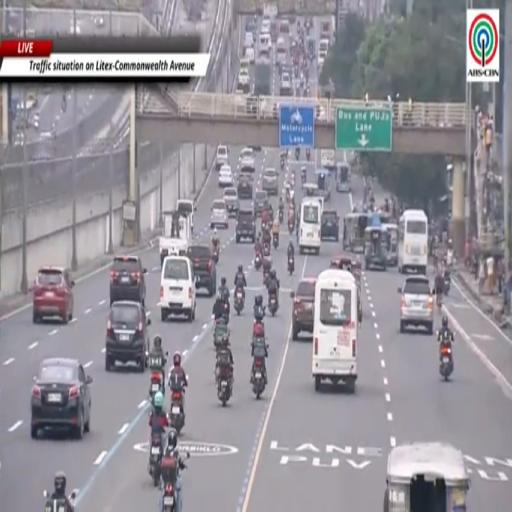bus: (312, 269, 362, 391), (398, 210, 428, 275), (299, 198, 321, 253)
car: (31, 358, 92, 439), (105, 300, 151, 372), (159, 256, 196, 322), (32, 266, 74, 324), (399, 276, 434, 333), (110, 255, 146, 307), (292, 279, 316, 341), (187, 245, 216, 296), (236, 210, 255, 243), (177, 200, 196, 233), (321, 211, 339, 242), (210, 200, 228, 229), (224, 187, 239, 217), (262, 168, 278, 196), (237, 173, 253, 199), (239, 148, 255, 172), (254, 190, 268, 217), (216, 146, 229, 170), (219, 166, 233, 187), (238, 69, 250, 90), (245, 19, 257, 34), (280, 71, 291, 87), (260, 18, 271, 34), (280, 82, 293, 95), (316, 105, 326, 121), (93, 14, 104, 28), (244, 32, 254, 47), (245, 47, 254, 63), (240, 58, 250, 72), (280, 20, 289, 34)
jeepney: (384, 442, 470, 511), (330, 255, 362, 317), (343, 213, 368, 252), (364, 227, 387, 269), (383, 223, 398, 266), (336, 163, 351, 193), (303, 183, 318, 197)
motorcycle: (162, 464, 186, 511), (149, 357, 165, 402), (149, 435, 163, 486), (170, 390, 184, 435), (252, 358, 265, 398), (43, 490, 66, 511), (440, 343, 453, 380), (149, 371, 164, 403), (218, 373, 232, 406), (214, 324, 229, 347), (234, 287, 244, 315), (253, 320, 264, 338), (269, 295, 278, 316), (254, 252, 262, 271), (444, 270, 450, 295), (212, 245, 219, 264), (288, 255, 294, 275), (262, 243, 270, 257), (436, 293, 442, 311), (263, 268, 269, 286), (288, 219, 294, 234), (285, 185, 290, 201), (273, 234, 278, 249), (280, 157, 285, 169), (279, 208, 283, 223), (301, 173, 306, 185), (295, 148, 300, 159), (306, 149, 310, 161)
truck: (159, 211, 191, 266), (254, 59, 272, 95)
